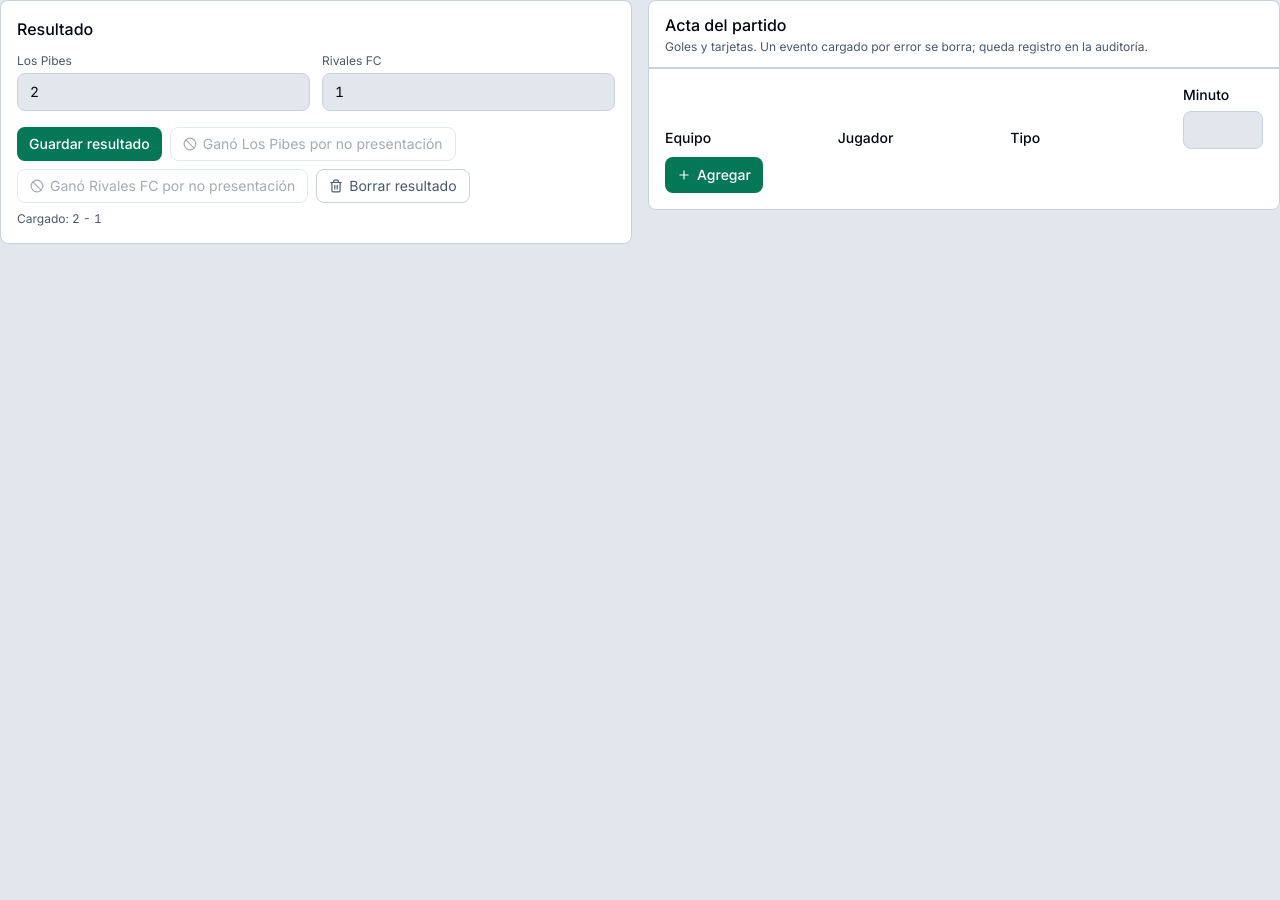
Test: ActaPanel — borrar resultado (Clase B: ConfirmDialog) › avisa que la tabla se recalcula antes de borrar
Later steps or results of the test are not shown.
Click the button "Borrar resultado".
click(393, 186)  # box [316,169,470,203]
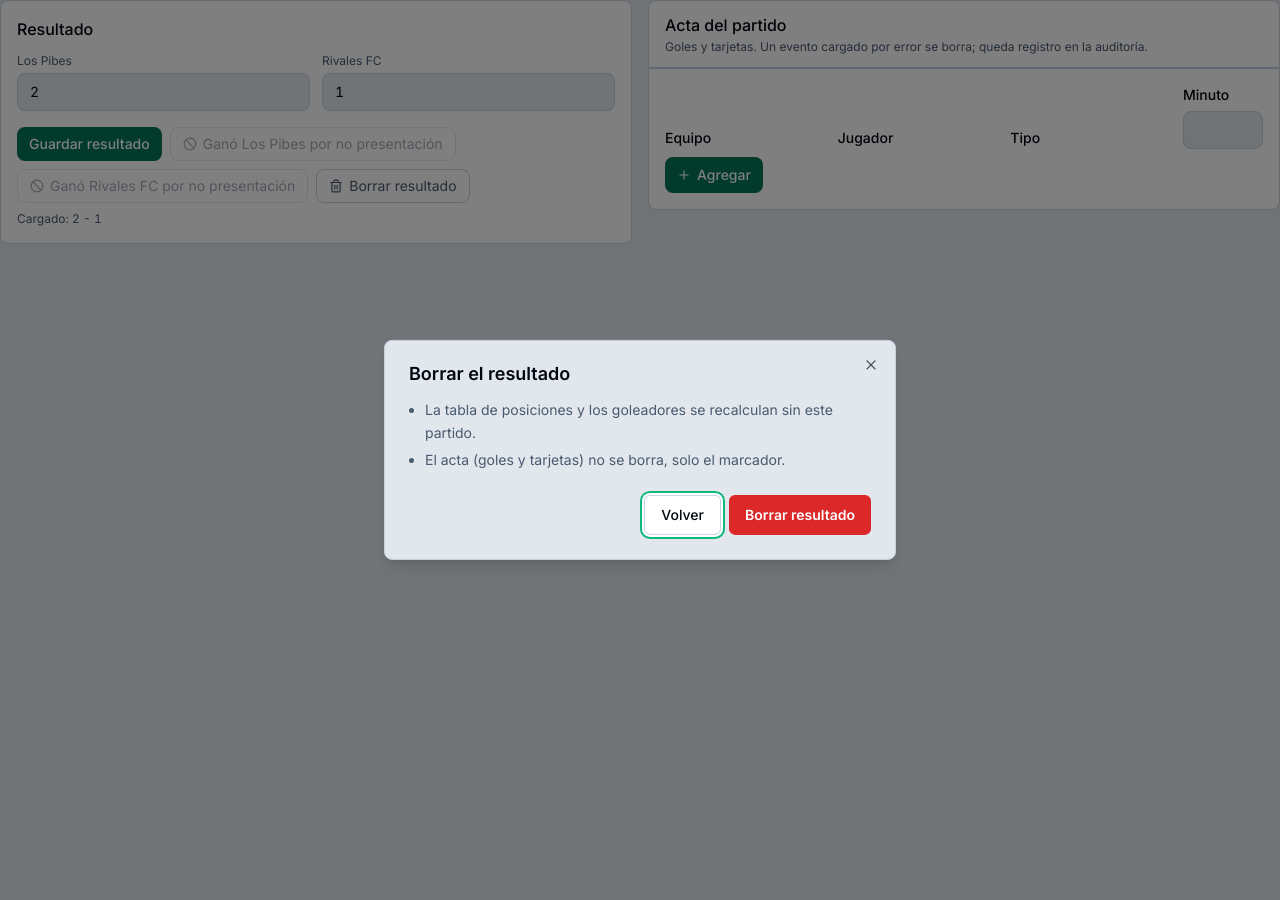
Expected: the list item "se recalculan sin este partido" is shown, [425,401,833,441]
